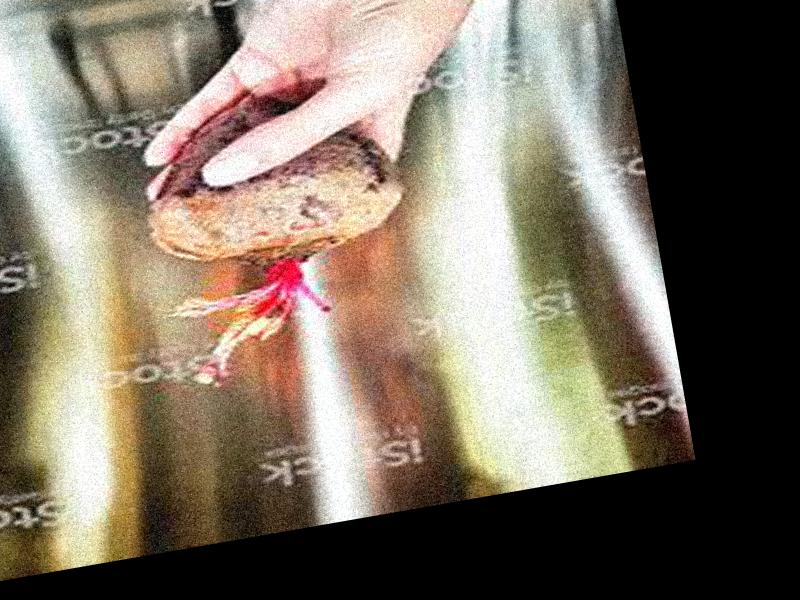Beet: (130, 76, 426, 386)
